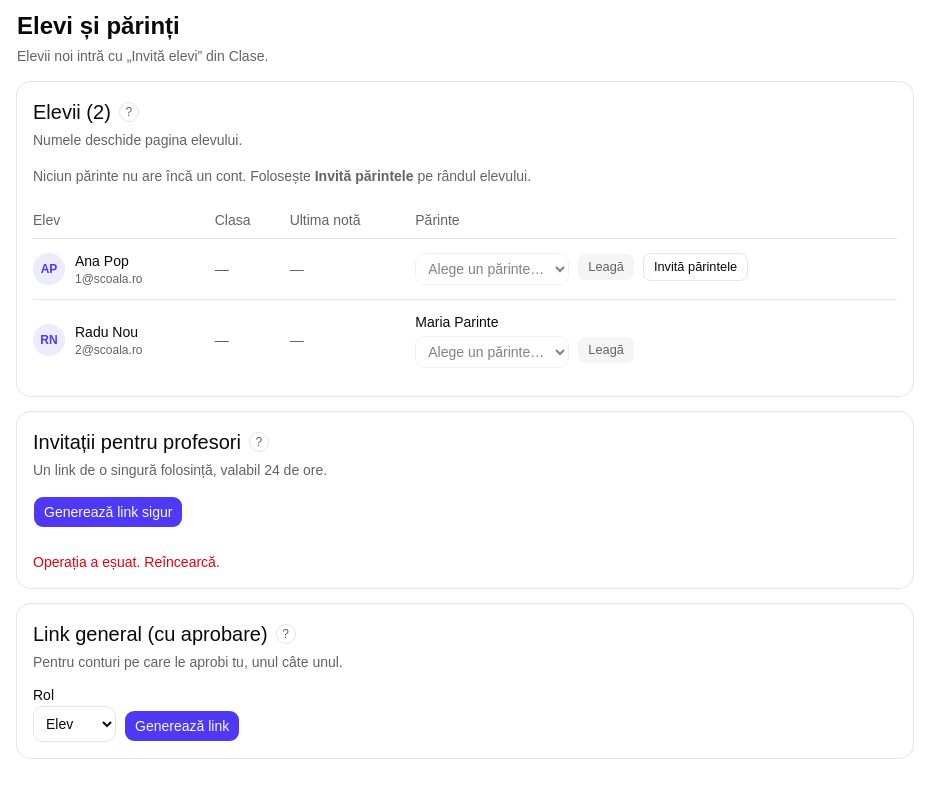
AdminStudentsPage › shows the server's reason when the link is refused
This screenshot has width=931, height=812.
Click the button with test id "parent-invite-1". click: (696,267)
box: [643,253,748,281]
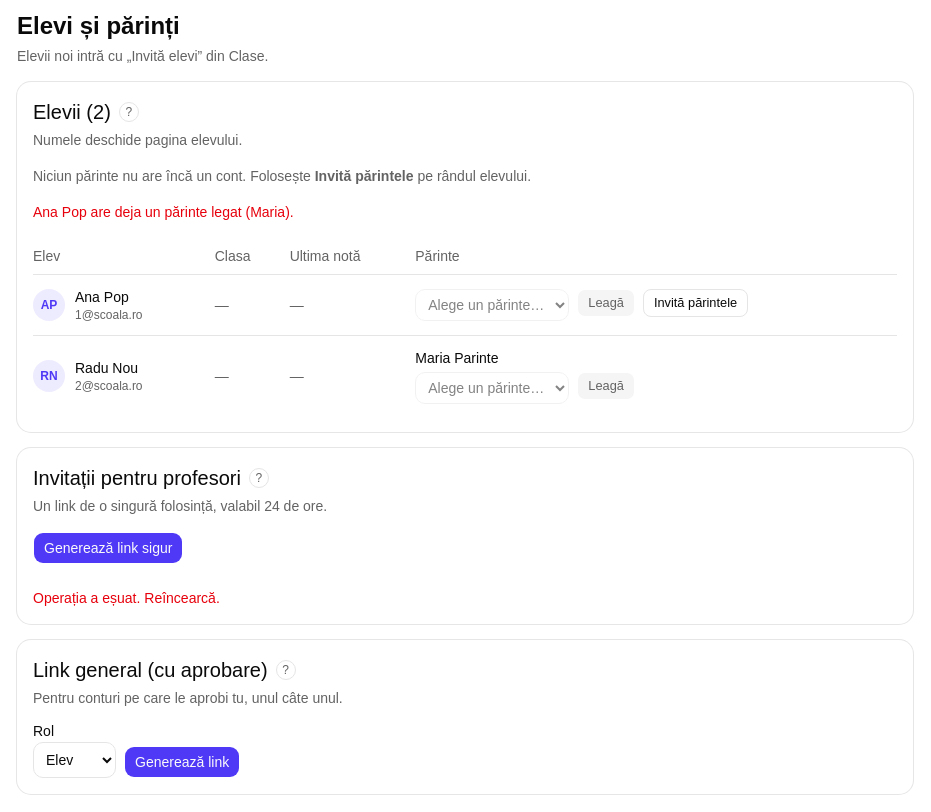
Expected: the text "Ana Pop are deja un părinte legat (Maria)." is shown, [33,204,294,220]
